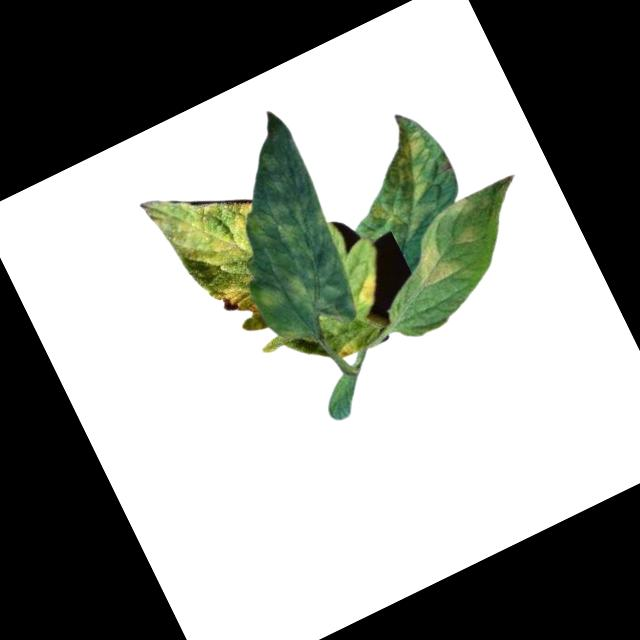Leaf_Mold: (198, 122, 370, 349), (133, 155, 277, 301), (343, 124, 456, 244), (207, 274, 262, 333), (405, 236, 459, 290), (346, 267, 389, 310), (447, 220, 482, 251), (330, 333, 360, 361)
